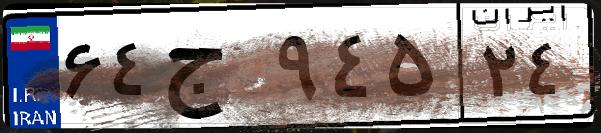2: (475, 38, 525, 113)
4: (330, 28, 385, 110), (525, 38, 570, 115), (110, 28, 158, 98)
5: (385, 28, 445, 110)
6: (57, 26, 110, 100)
9: (270, 28, 330, 110)
ج: (158, 20, 270, 120)
